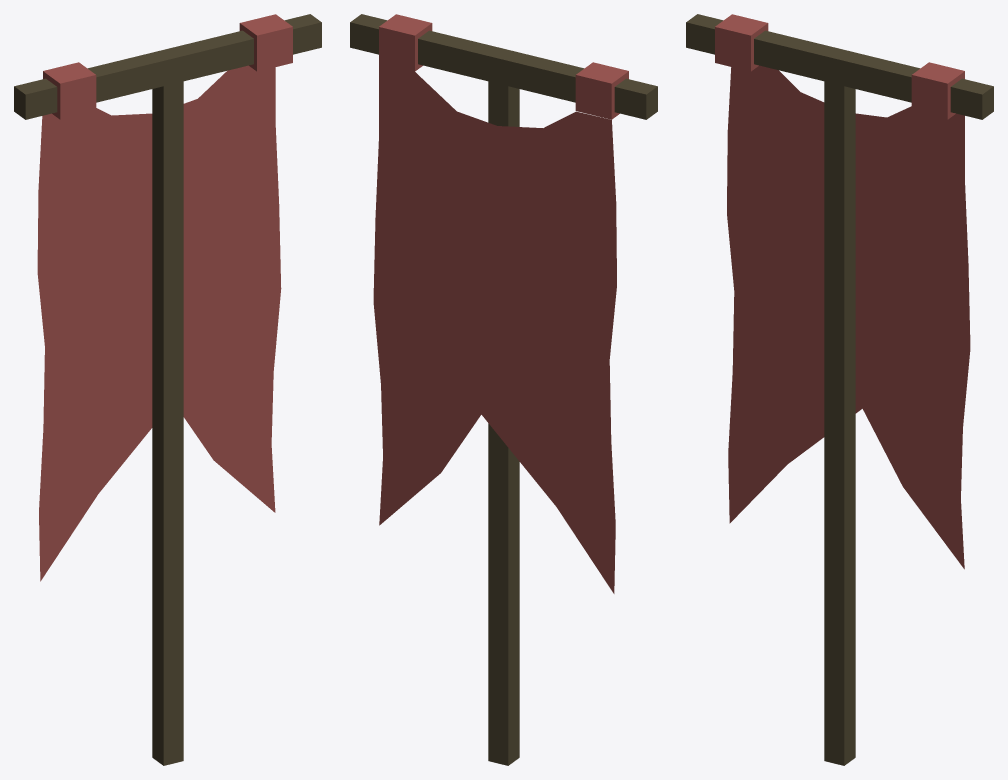
File: BannerStatic.fbx
3 renders of one model, left to right at view 1: azimuth 30°, elevation 25°; view 2: azimuth 150°, elevation 25°; view 3: azimuth 330°, elevation 25°, orthographic.
Parts seen in each view (by area): view 1: WarBanner, WarBannerStick; view 2: WarBanner, WarBannerStick; view 3: WarBanner, WarBannerStick.
Boxes of the visible parts, x1,y1,x2,y2 form: WarBanner: [37, 65, 281, 581]; WarBannerStick: [14, 14, 321, 765]; WarBanner: [373, 63, 616, 593]; WarBannerStick: [350, 14, 657, 765]; WarBanner: [727, 65, 970, 569]; WarBannerStick: [686, 14, 993, 765].
Size of the model in its own units: 0.8445 by 1.93 by 0.0854.
